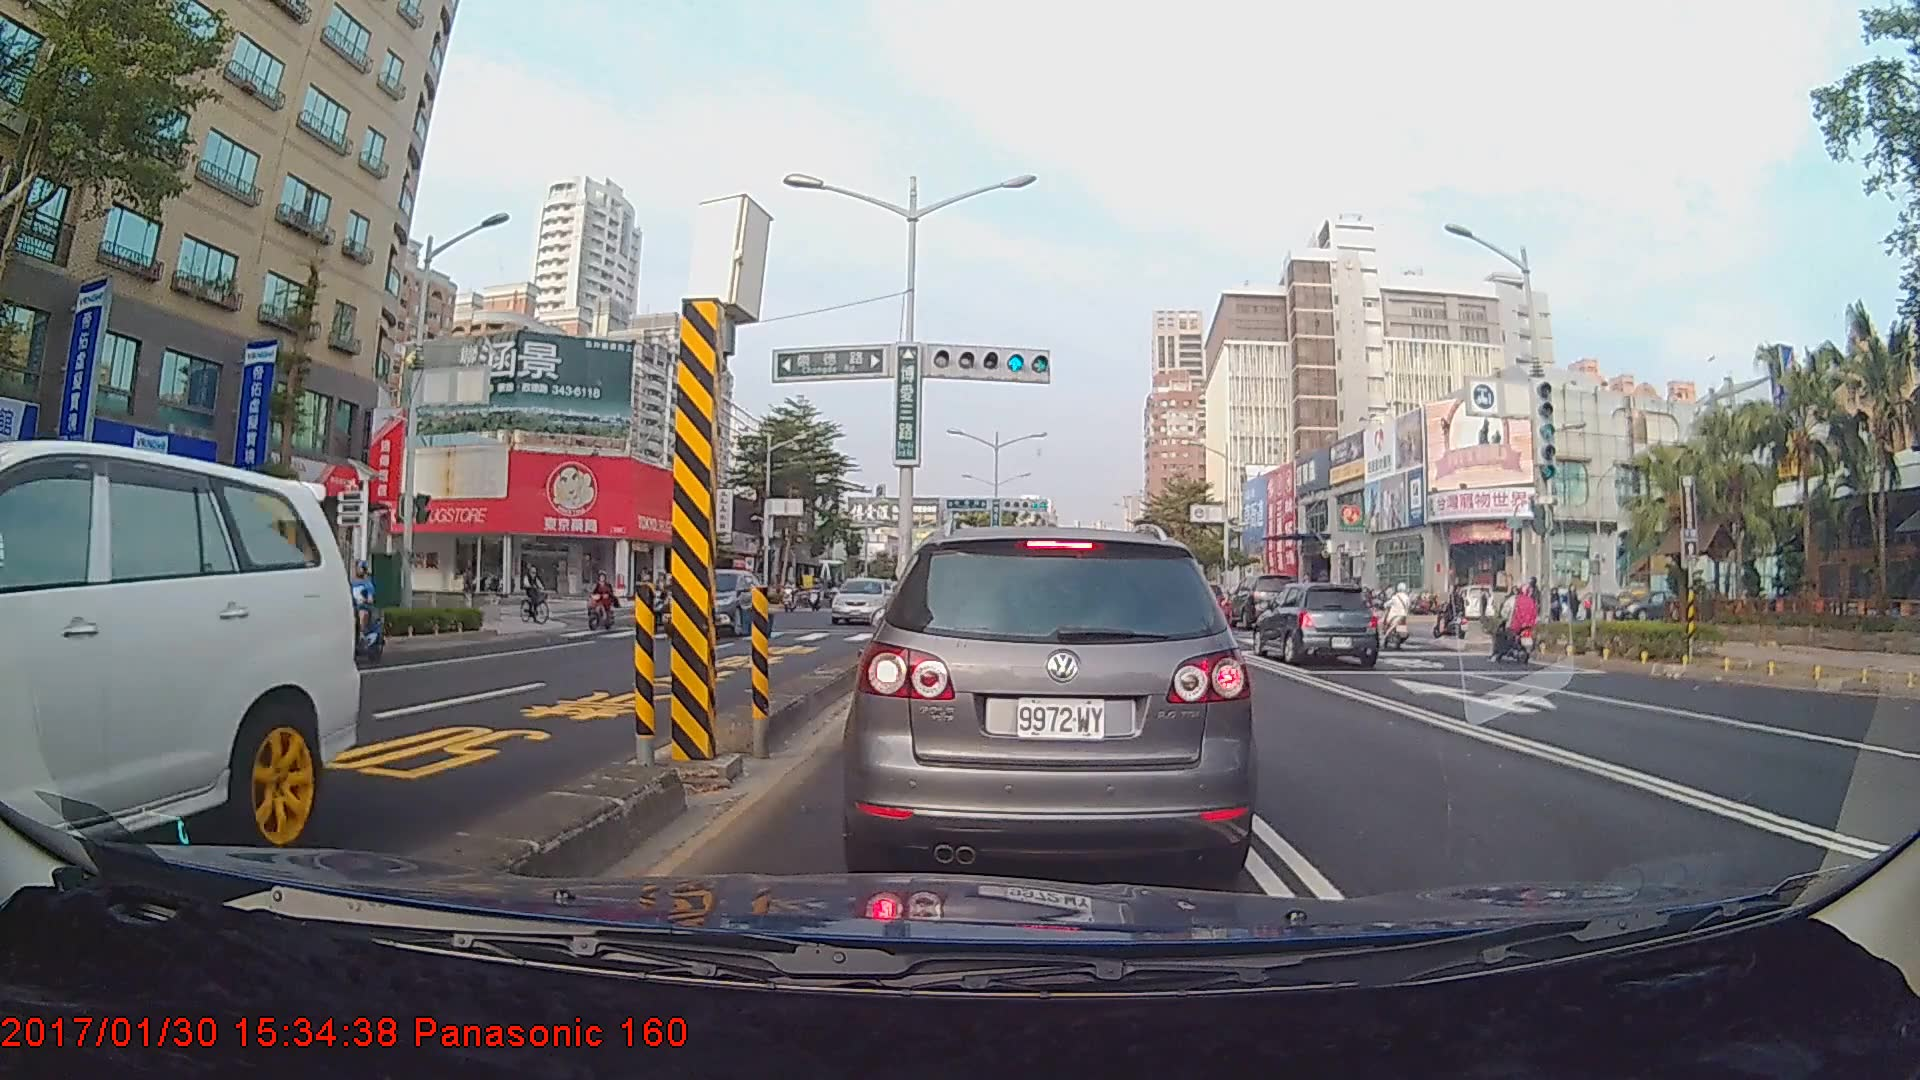rider: (1485, 582, 1548, 668), (581, 567, 624, 638), (518, 559, 561, 629), (1436, 582, 1473, 646)
vehicle: (0, 436, 355, 863), (854, 524, 1250, 876), (1250, 581, 1380, 665), (659, 568, 763, 637), (1225, 571, 1295, 628), (829, 575, 894, 624)
